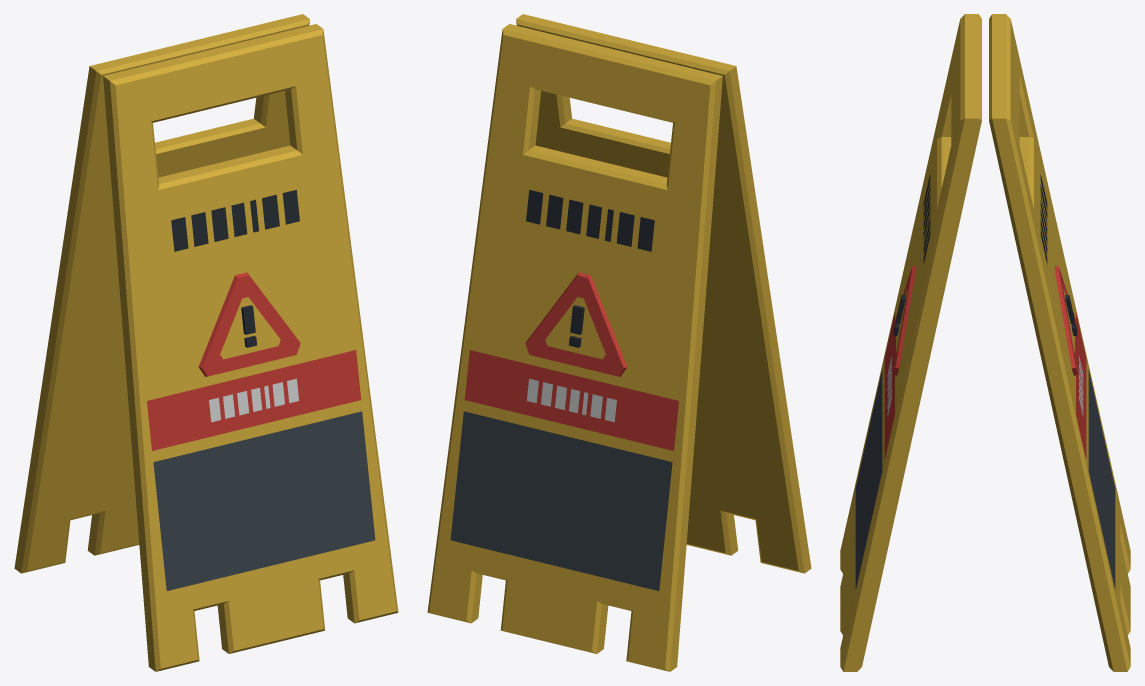
Rendered from wet-floor-sign-d39967.glb.
3 renders of one model, left to right at view 1: azimuth 30°, elevation 25°; view 2: azimuth 150°, elevation 25°; view 3: azimuth 270°, elevation 25°, orthographic.
Parts seen in each view (by area): view 1: leaf-front-shell, leaf-back-shell; view 2: leaf-back-shell, leaf-front-shell; view 3: leaf-front-shell, leaf-back-shell.
Boxes of the visible parts, <box> form: leaf-front-shell: <box>103,24,398,671</box>; leaf-back-shell: <box>14,14,309,573</box>; leaf-back-shell: <box>427,24,722,671</box>; leaf-front-shell: <box>516,14,811,573</box>; leaf-front-shell: <box>840,14,981,671</box>; leaf-back-shell: <box>989,14,1130,671</box>.
Size of the model in its own units: 0.29 by 0.62 by 0.2989.
